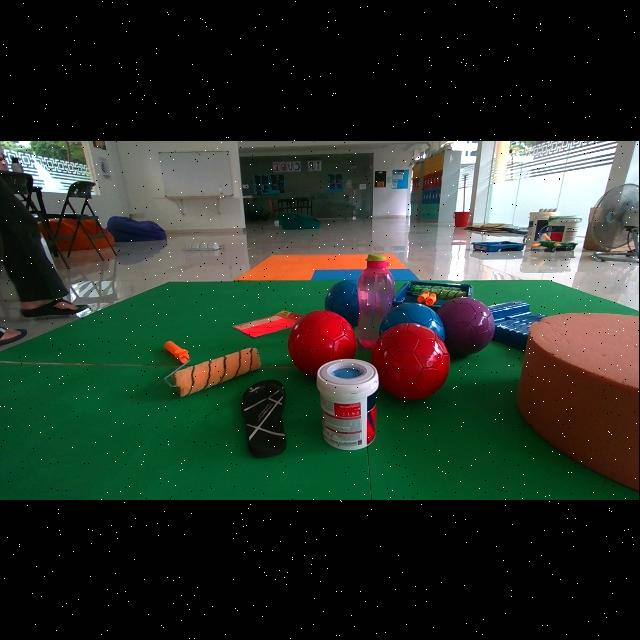B: (379, 302, 446, 340), (325, 279, 360, 326)
P: (438, 296, 496, 355)
R: (372, 323, 451, 400), (288, 310, 357, 377)
